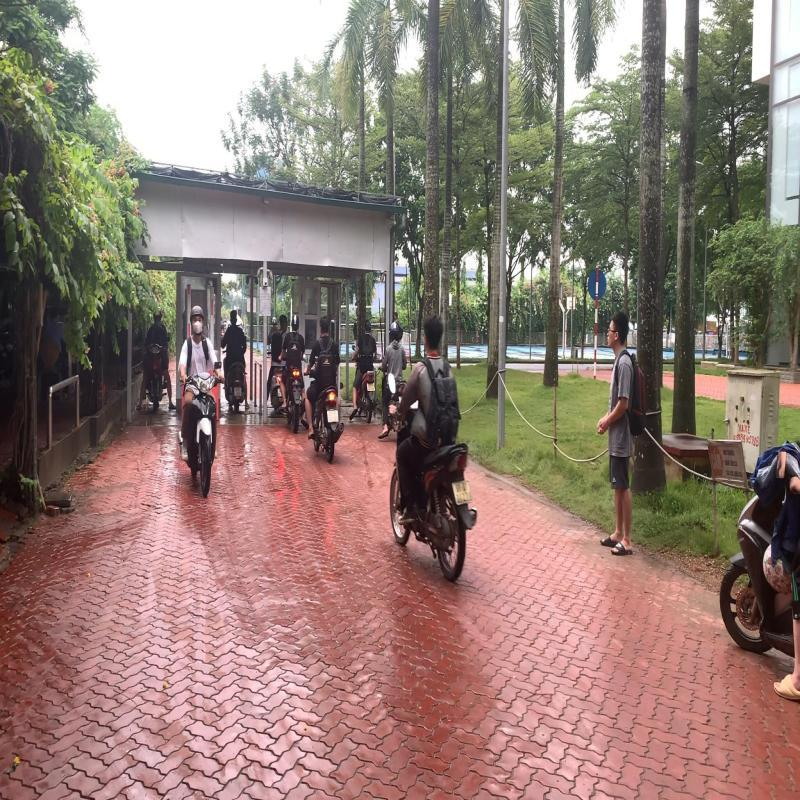nohelmet: (422, 310, 444, 352), (320, 314, 330, 336)
